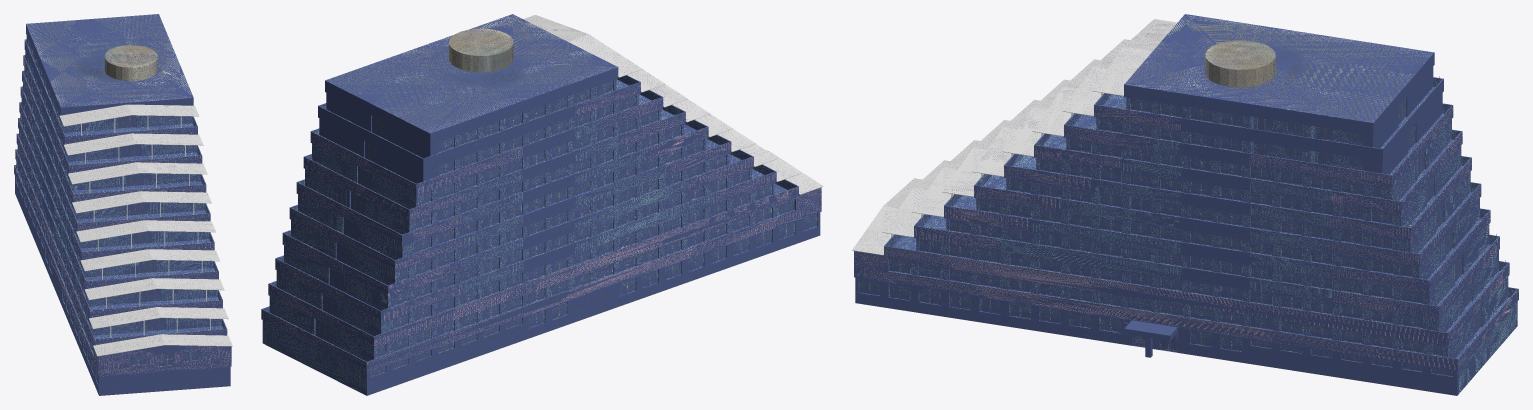
Rendered from panorama.glb.
The picture shows the model from 3 angles, left to right: view 1: azimuth 30°, elevation 25°; view 2: azimuth 150°, elevation 25°; view 3: azimuth 270°, elevation 25°; orthographic projection. The views are drawn at different scales.
Parts seen in each view (by area): view 1: IMAG0863_6, brushed_aluminium_b, IMAG0863_4, Mercurey01_b, Google_Earth_Snapshot_4, IMAG0863_3, Google_Earth_Snapshot, IMAG0863_1, balkonove_dvere; view 2: IMAG0863_6, IMAG0863_4, IMAG0863_3, IMAG0863_1, brushed_aluminium_b, Google_Earth_Snapshot_4, Google_Earth_Snapshot, Mercurey01_b, balkonove_dvere; view 3: IMAG0863_6, IMAG0863_4, brushed_aluminium_b, IMAG0863_3, IMAG0863_1, Google_Earth_Snapshot_4, Mercurey01_b, Google_Earth_Snapshot.
Boxes of the visible parts, <box> form: IMAG0863_6: <box>14,14,231,395</box>; brushed_aluminium_b: <box>59,104,232,356</box>; IMAG0863_4: <box>14,40,225,383</box>; Mercurey01_b: <box>61,104,229,354</box>; Google_Earth_Snapshot_4: <box>27,14,190,106</box>; IMAG0863_3: <box>14,60,231,376</box>; Google_Earth_Snapshot: <box>104,45,157,81</box>; IMAG0863_1: <box>21,43,199,364</box>; balkonove_dvere: <box>117,115,163,330</box>; IMAG0863_6: <box>261,14,821,395</box>; IMAG0863_4: <box>262,76,814,390</box>; IMAG0863_3: <box>261,84,821,370</box>; IMAG0863_1: <box>378,81,793,355</box>; brushed_aluminium_b: <box>523,15,823,194</box>; Google_Earth_Snapshot_4: <box>327,15,616,132</box>; Google_Earth_Snapshot: <box>449,28,513,72</box>; Mercurey01_b: <box>525,15,821,192</box>; balkonove_dvere: <box>316,116,384,341</box>; IMAG0863_6: <box>854,14,1518,395</box>; IMAG0863_4: <box>868,77,1517,392</box>; brushed_aluminium_b: <box>852,19,1176,255</box>; IMAG0863_3: <box>854,105,1518,369</box>; IMAG0863_1: <box>889,99,1441,355</box>; Google_Earth_Snapshot_4: <box>1127,14,1431,122</box>; Mercurey01_b: <box>854,20,1174,254</box>; Google_Earth_Snapshot: <box>1205,40,1275,87</box>.
Bounding box in the file's own units: 37.44 × 29.5 × 64.07.
65 materials, 64 textured.
